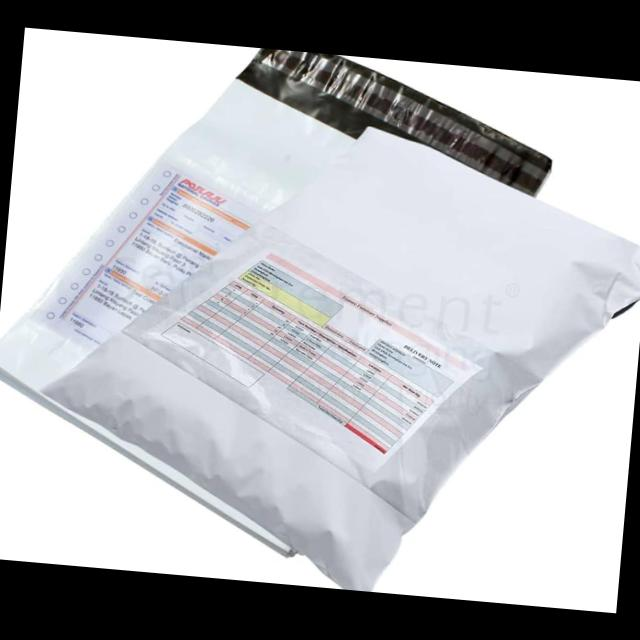mailer: (49, 103, 640, 601), (0, 27, 561, 548)
